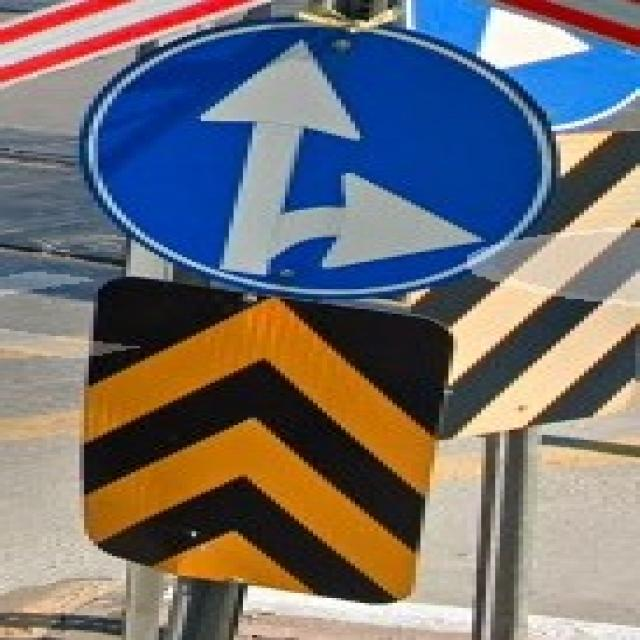Straight or Right: (83, 23, 545, 290)
